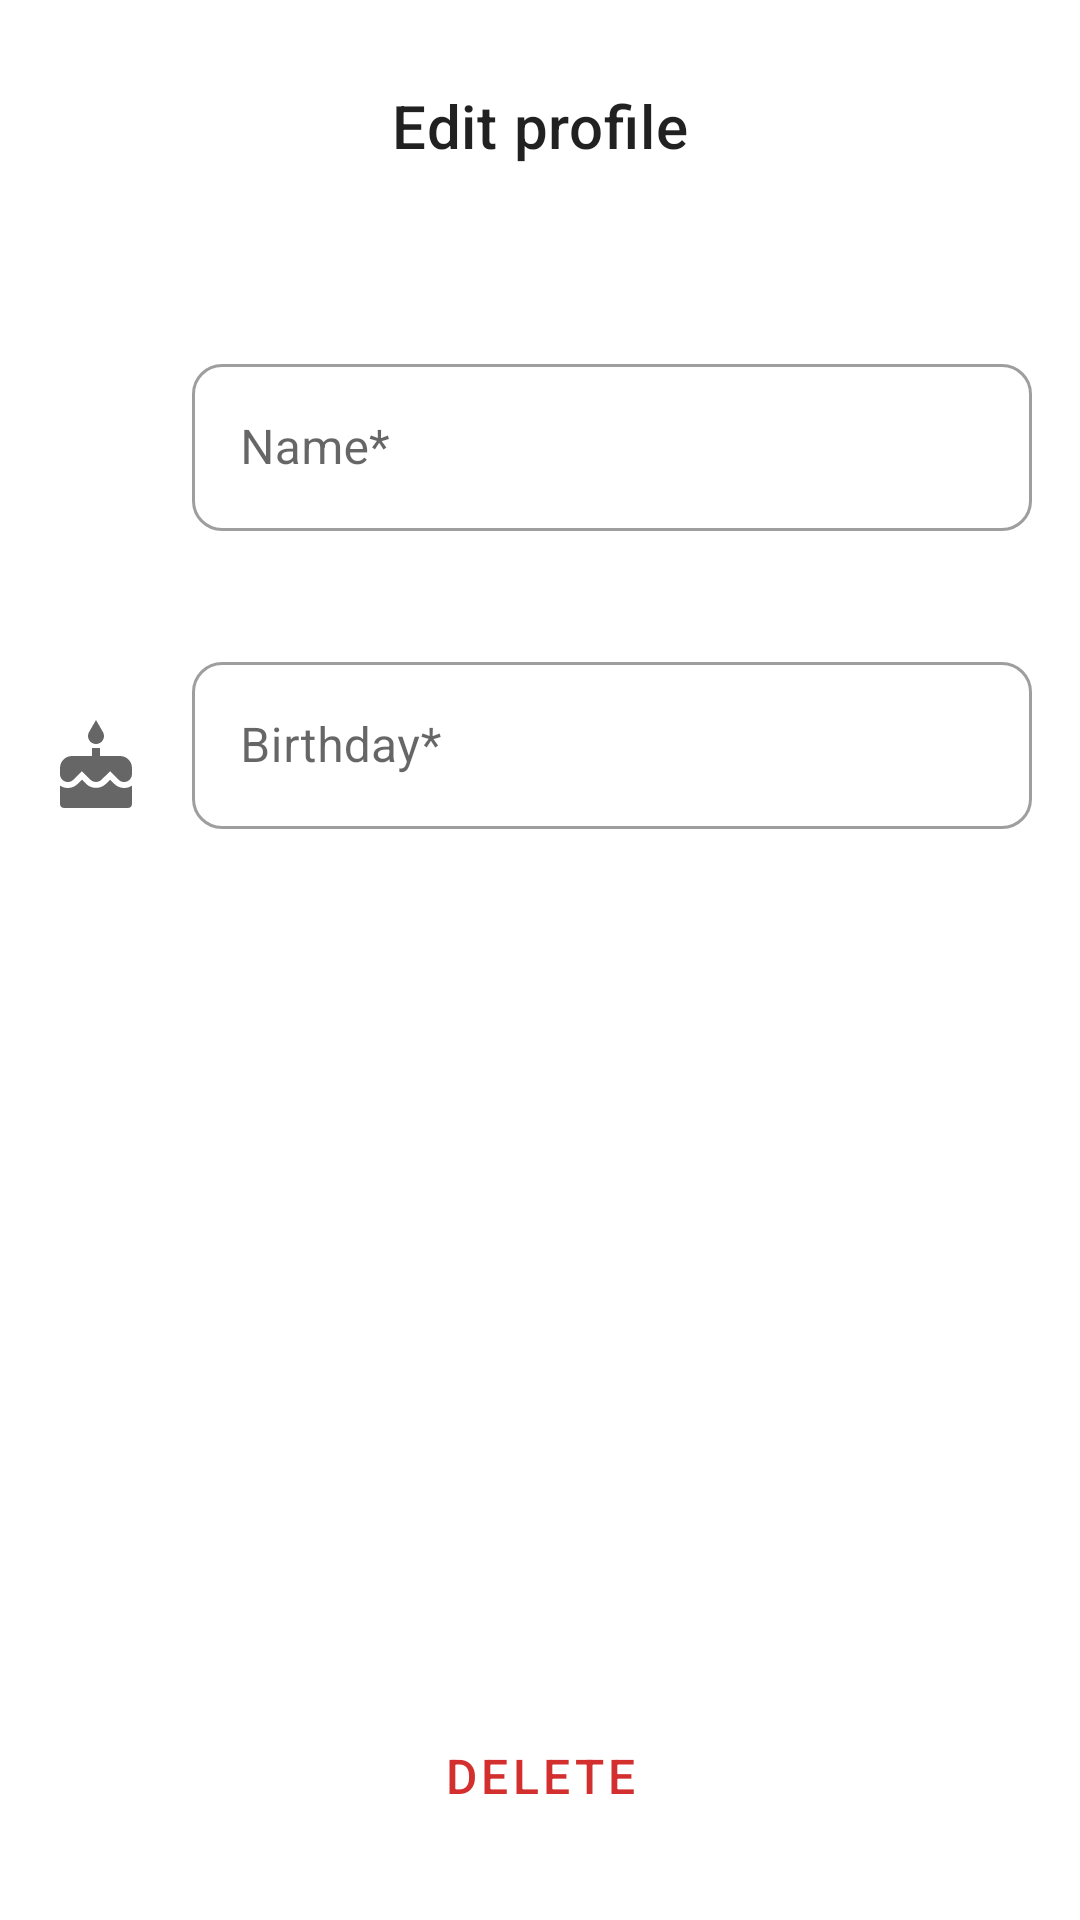

Locate icon controls on the screen. Image size 1080 × 1920, boxes as (x1, y1, x2, y2).
cake: (60, 720, 132, 808)
